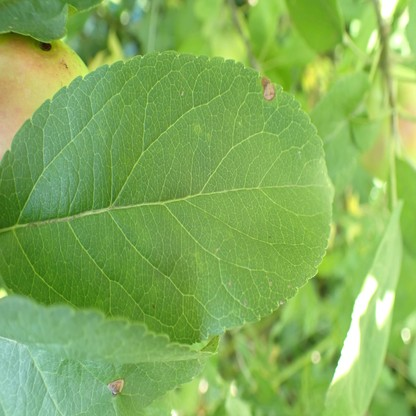frogeye_leaf_spot: (261, 75, 275, 101), (108, 378, 124, 395)
